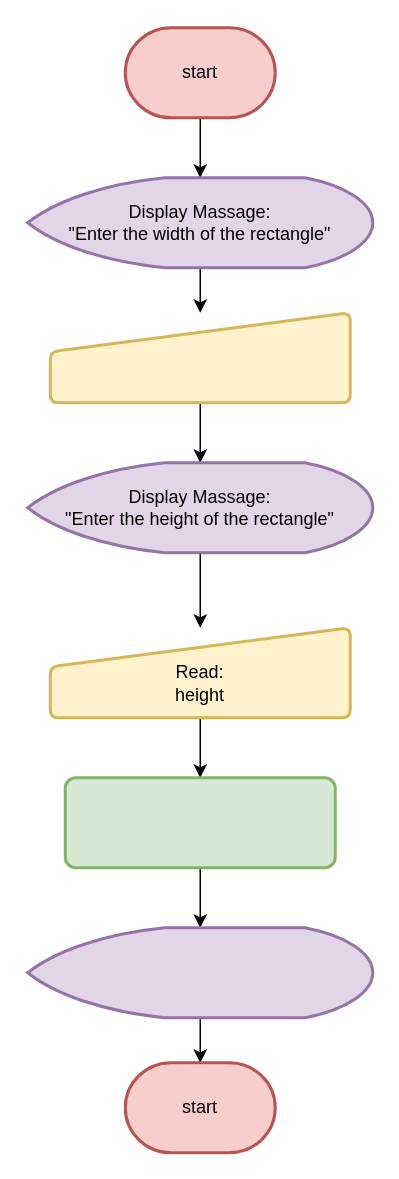
The diagram is 399 pixels wide and 1179 high, and some of its shapes have lost their labels. Here are the shapes that lost their labels. From the top down, the centre of each, then its label:
the point at 199,357: Read: width
the point at 199,822: area = width * height
the point at 200,972: Display Massage: "Area of rectangle is:", area
